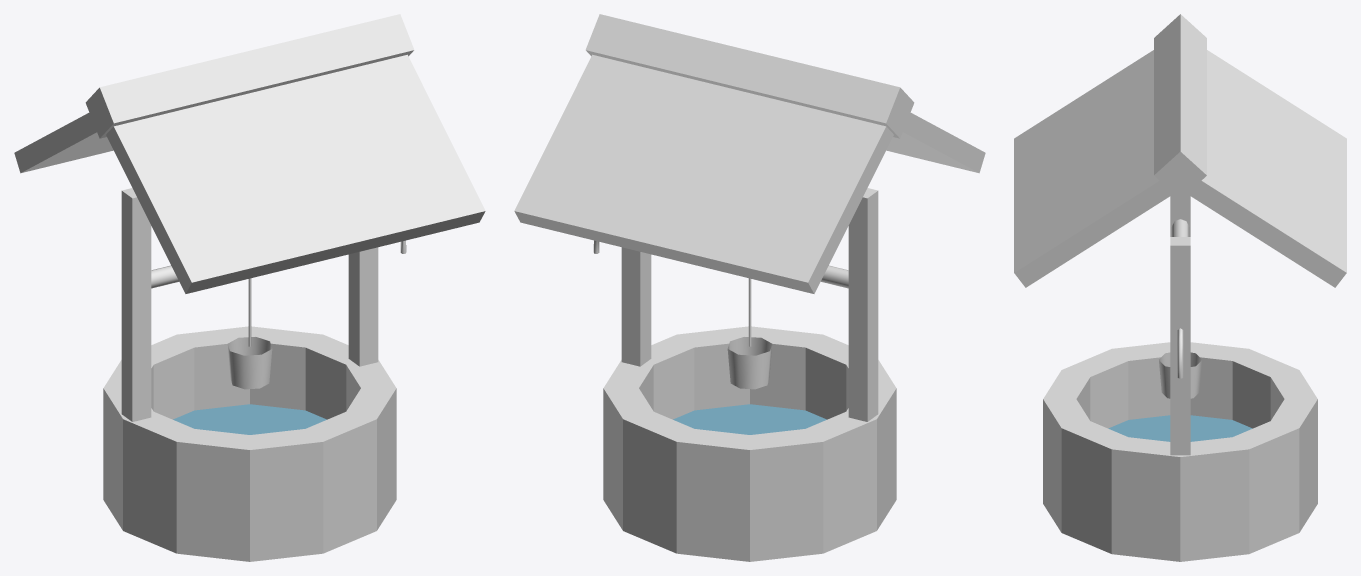
Rendered from well.glb.
The picture shows the model from 3 angles, left to right: view 1: azimuth 30°, elevation 25°; view 2: azimuth 150°, elevation 25°; view 3: azimuth 270°, elevation 25°; orthographic projection. The views are drawn at different scales.
Visible parts, largest first — view 1: well; view 2: well; view 3: well.
Part boxes in pixels (x1,y1,x2,y2): well: (14,14,485,561); well: (514,14,985,561); well: (1014,14,1346,561).
Bounding box in the file's own units: 2.29 × 3.21 × 2.3.
